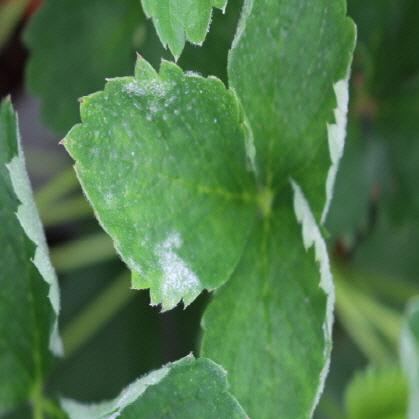Powdery Mildew Leaf: (54, 50, 260, 314), (198, 176, 336, 418), (226, 0, 358, 240), (0, 92, 67, 390), (59, 350, 250, 418)
